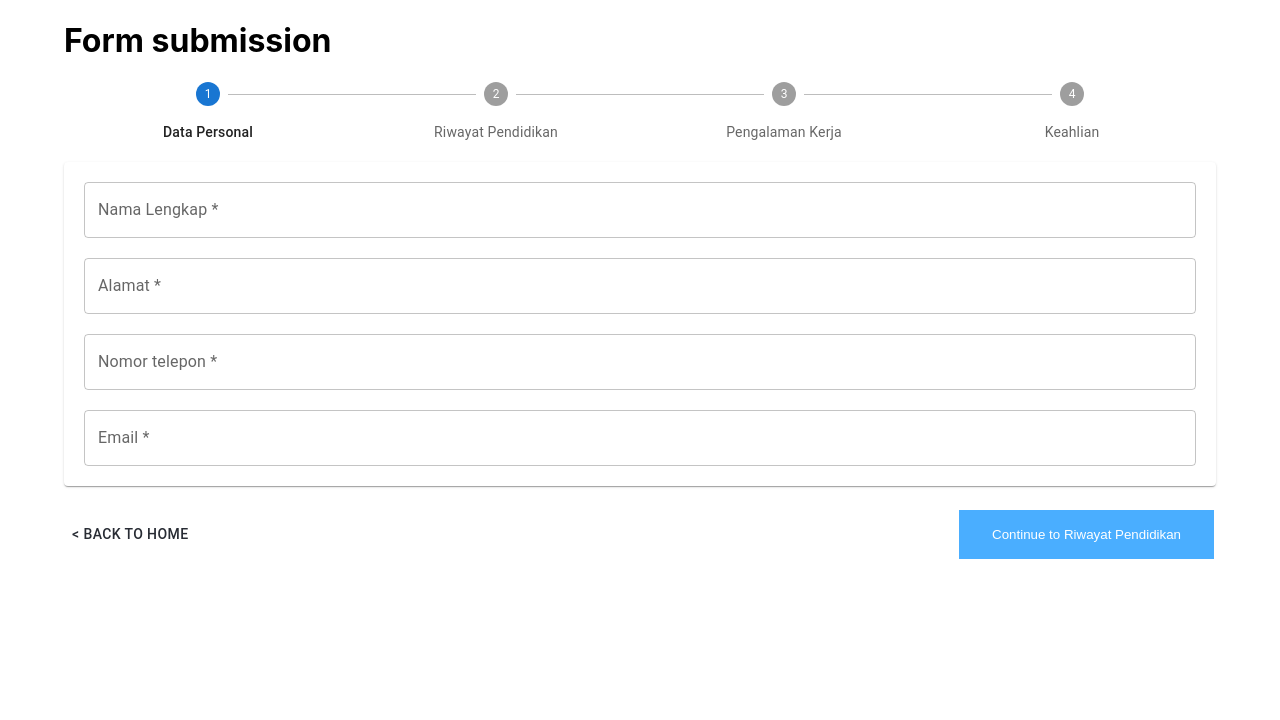
FormSubmission › shows next step when fields are filled and next button is clicked
Type "tiara" into the field labelled "Nama Lengkap *" at (640, 210), box [84, 182, 1196, 238]
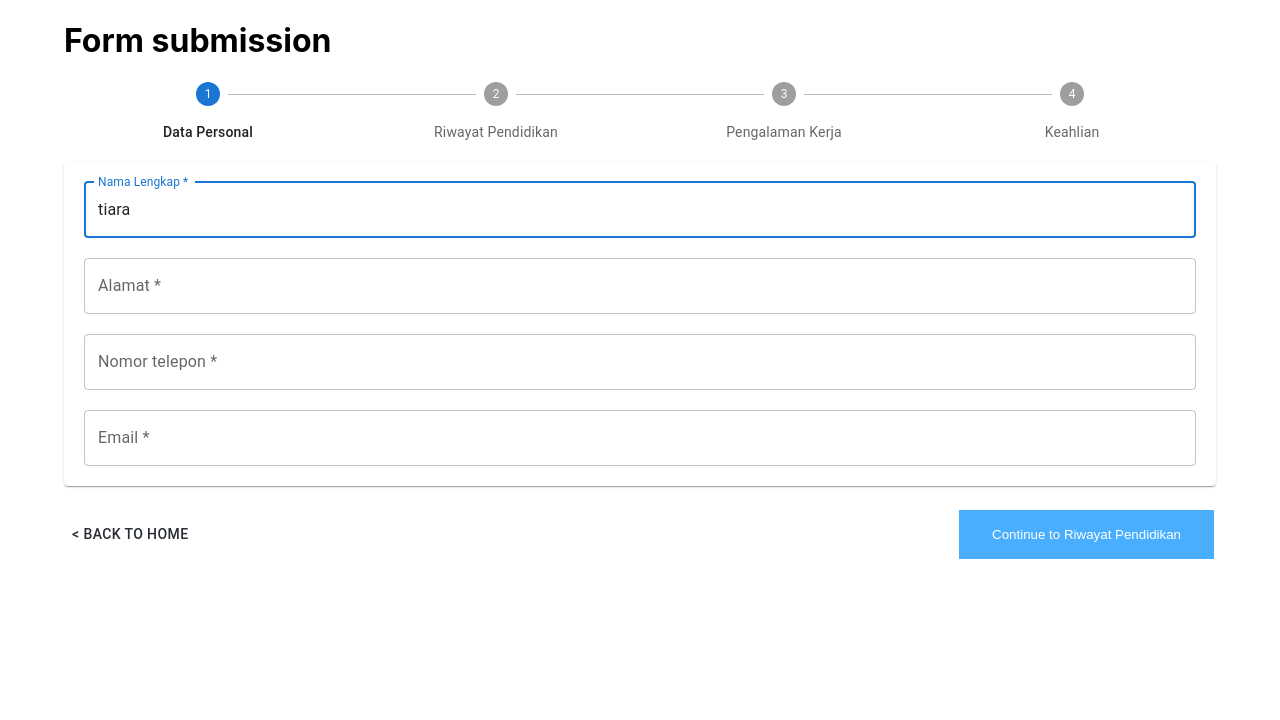
Type "jakarta" into the field labelled "Alamat *" at (640, 286), box [84, 258, 1196, 314]
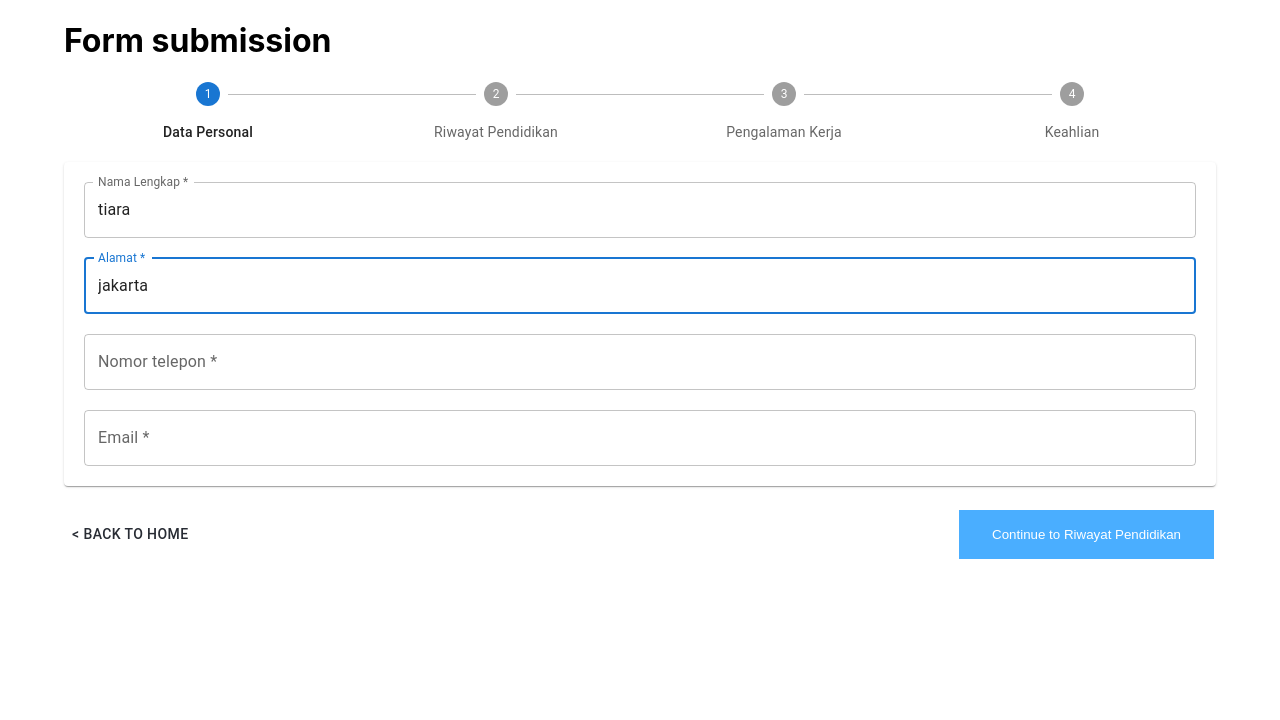
Type "081111111" into the field labelled "Nomor telepon *" at (640, 362), box [84, 334, 1196, 390]
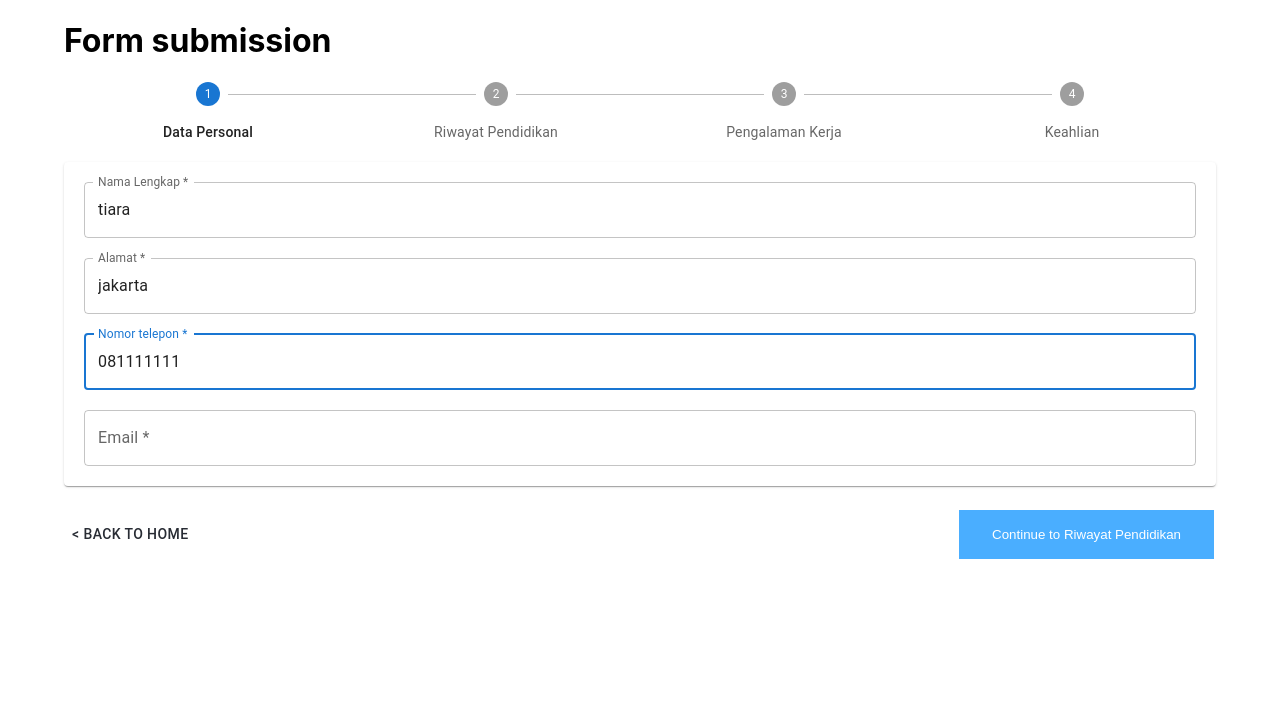
Type "mail@mail.com" into the field labelled "Email *" at (640, 438), box [84, 410, 1196, 466]
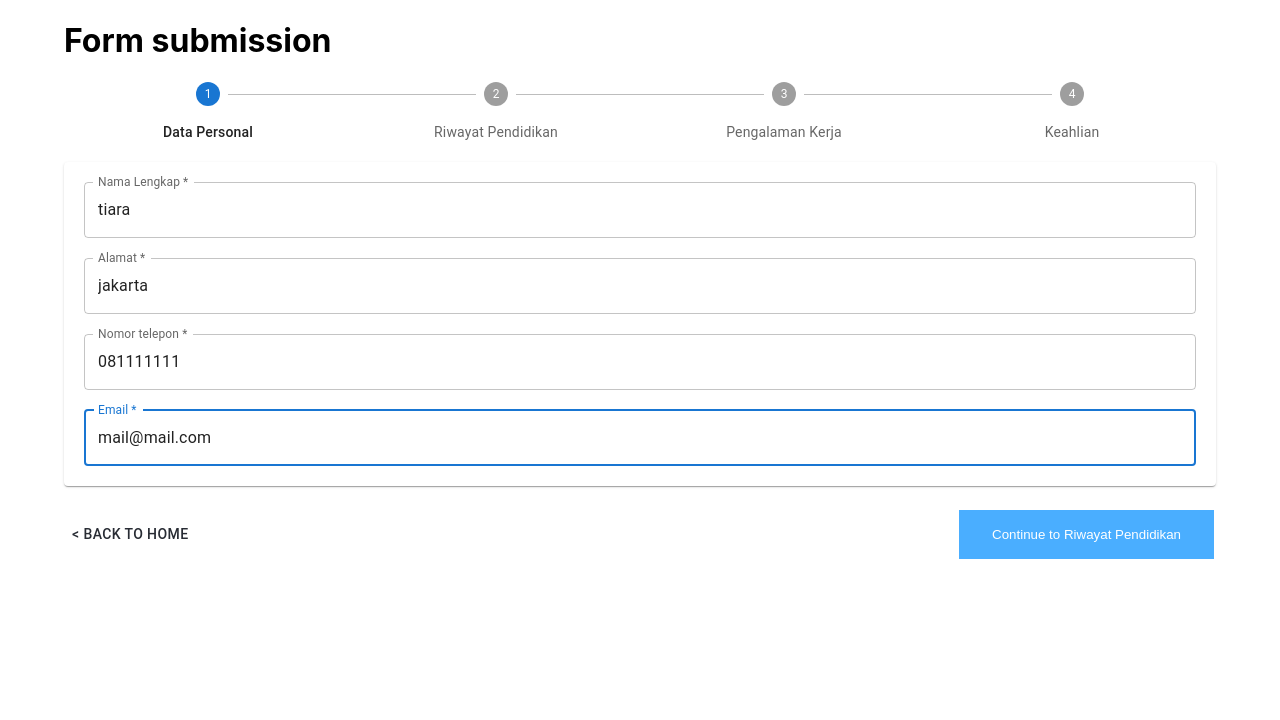
Click the button "Continue to Riwayat Pendidikan" at (1087, 534), box [959, 510, 1214, 559]
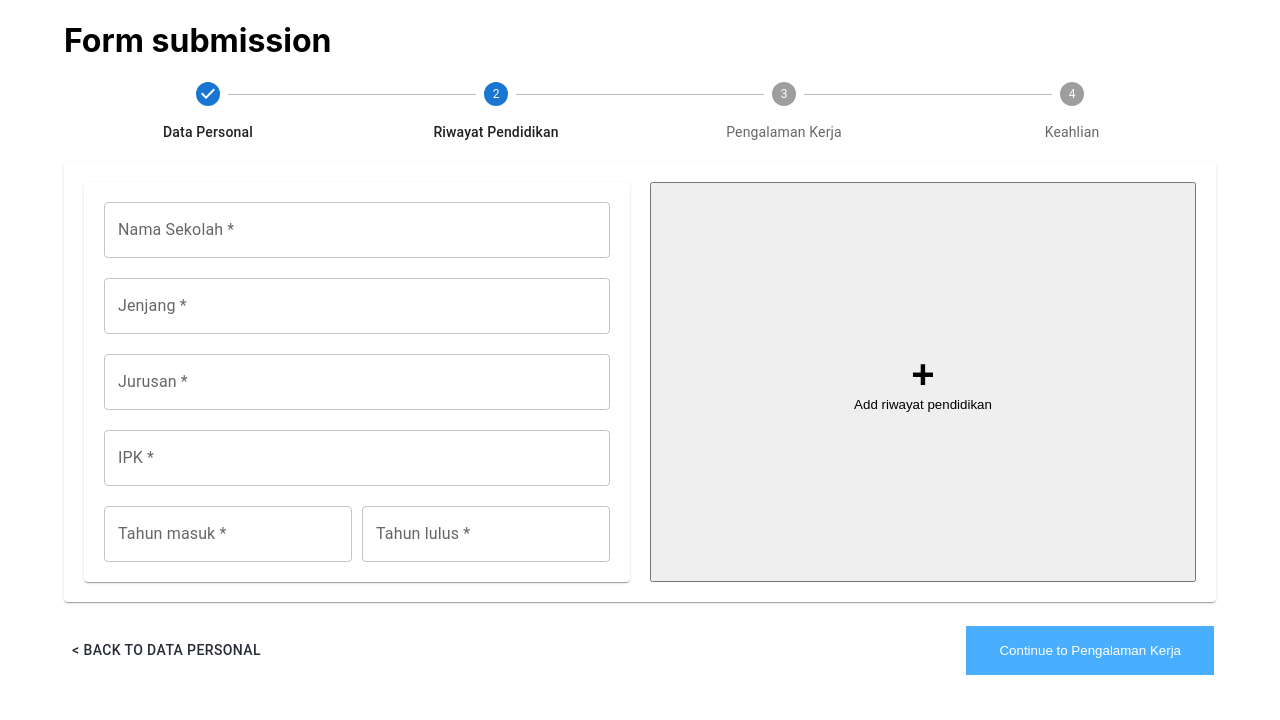
Result: the text "Add riwayat pendidikan" is shown at [854, 397, 992, 412]
